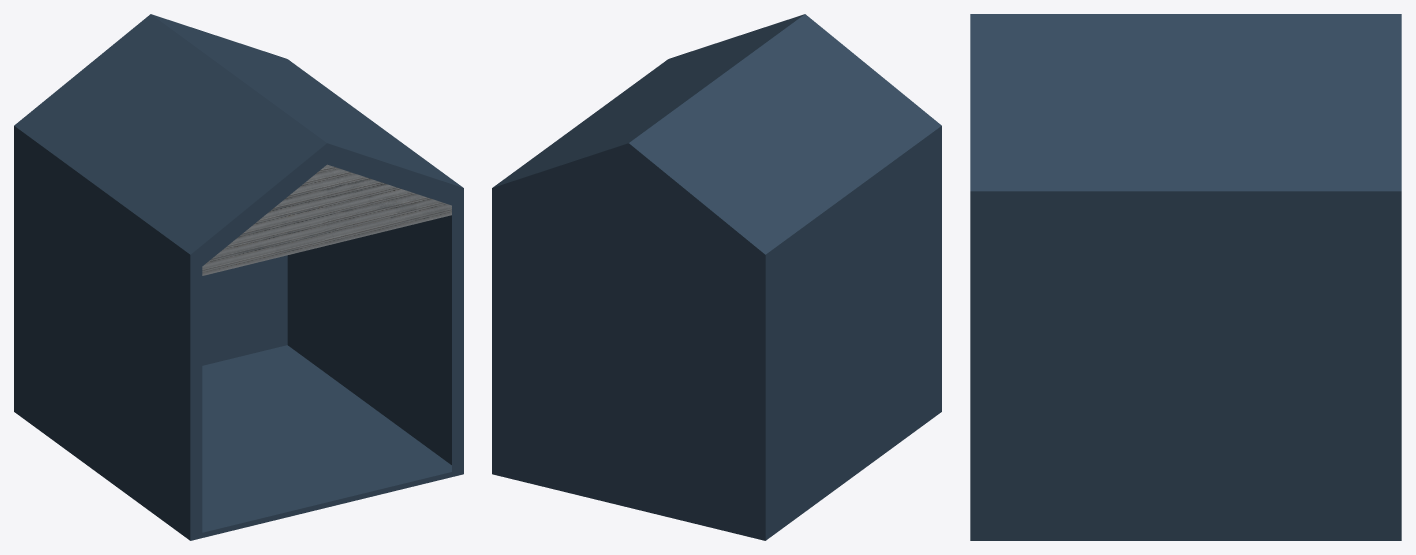
File: Garage.glb
The picture shows the model from 3 angles, left to right: view 1: azimuth 30°, elevation 25°; view 2: azimuth 150°, elevation 25°; view 3: azimuth 270°, elevation 25°; orthographic projection. The views are drawn at different scales.
Parts seen in each view (by area): view 1: Garage; view 2: Garage; view 3: Garage.
Boxes of the visible parts, <box> form: Garage: <box>14,14,463,540</box>; Garage: <box>492,14,941,540</box>; Garage: <box>970,14,1401,540</box>.
Bounding box in the file's own units: 2.76 × 3.51 × 3.08.
Materials: 2 (1 with a texture image).
